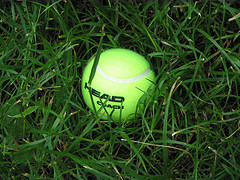tennis ball: (80, 47, 155, 122)
